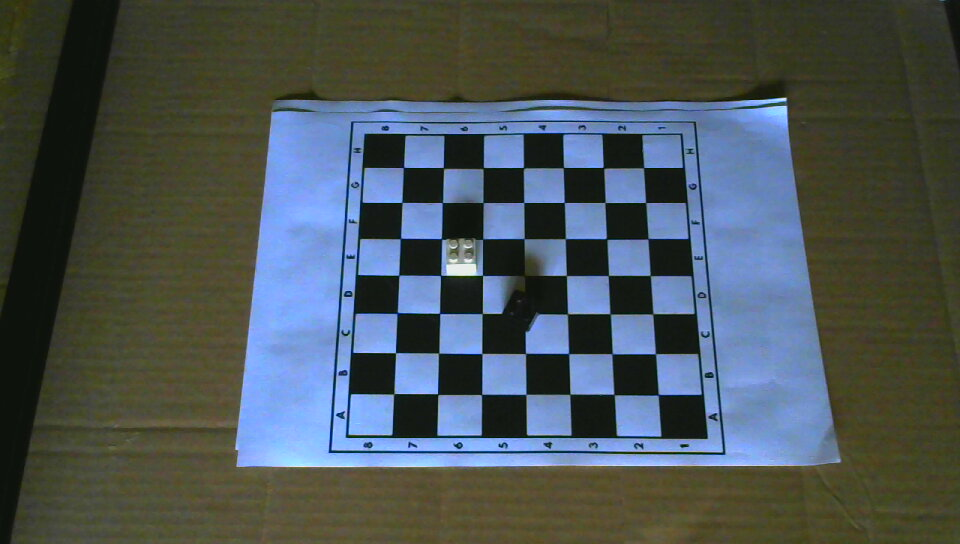bp: (499, 289, 542, 331)
wp: (444, 235, 479, 277)
